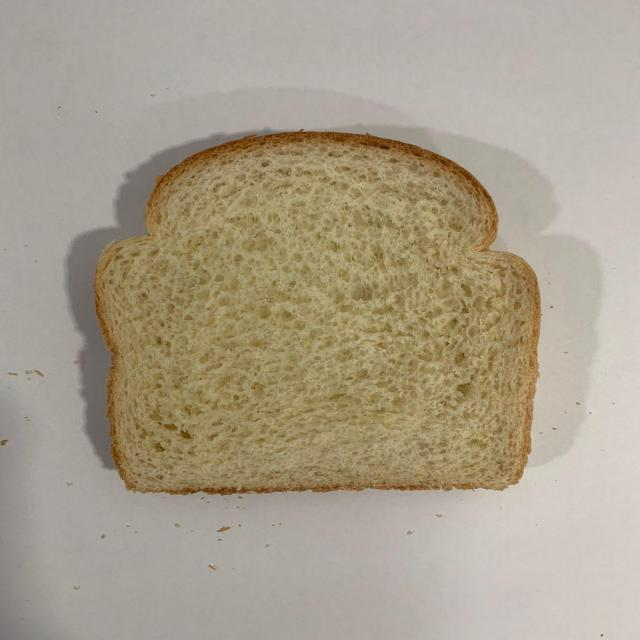sliced_bread: (93, 130, 541, 495)
